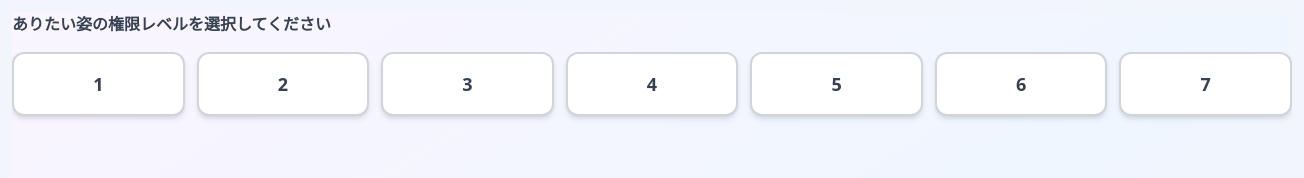
Test: VoteCard › 投票に失敗した場合はエラーメッセージを表示する
What coordinates should you click on to do the following:
click the button "1"
I would click on:
 (98, 84)
Its box is 12,52 -> 185,116.
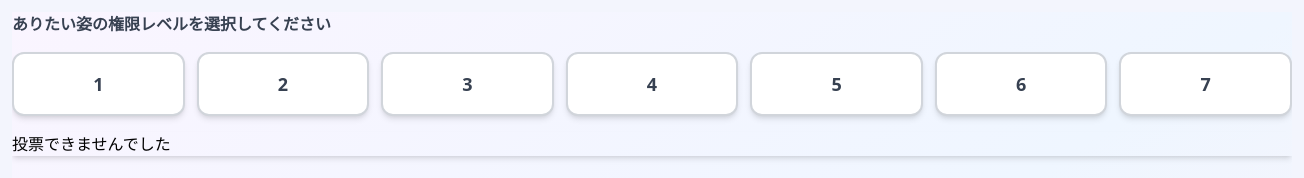
Check: the text "投票できませんでした" is shown, box 12,133 -> 171,155
